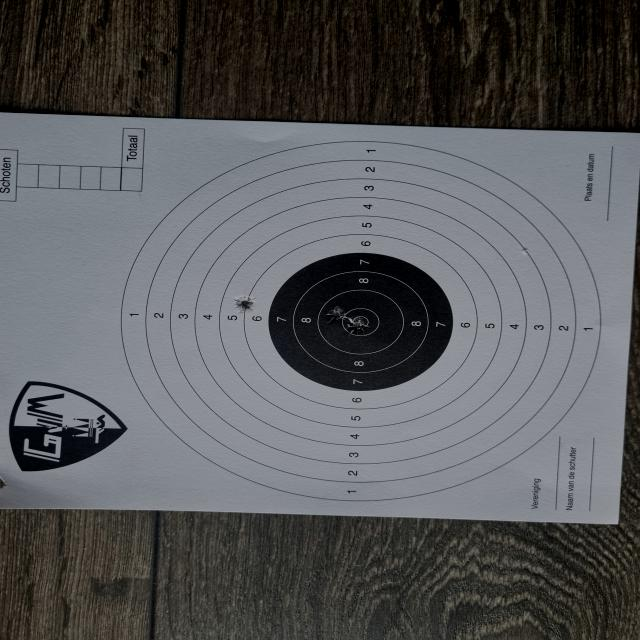10: (345, 317, 369, 337), (324, 307, 348, 324)
6: (232, 297, 257, 313)
Target: (120, 140, 601, 505)
black_contour: (266, 255, 452, 390)
